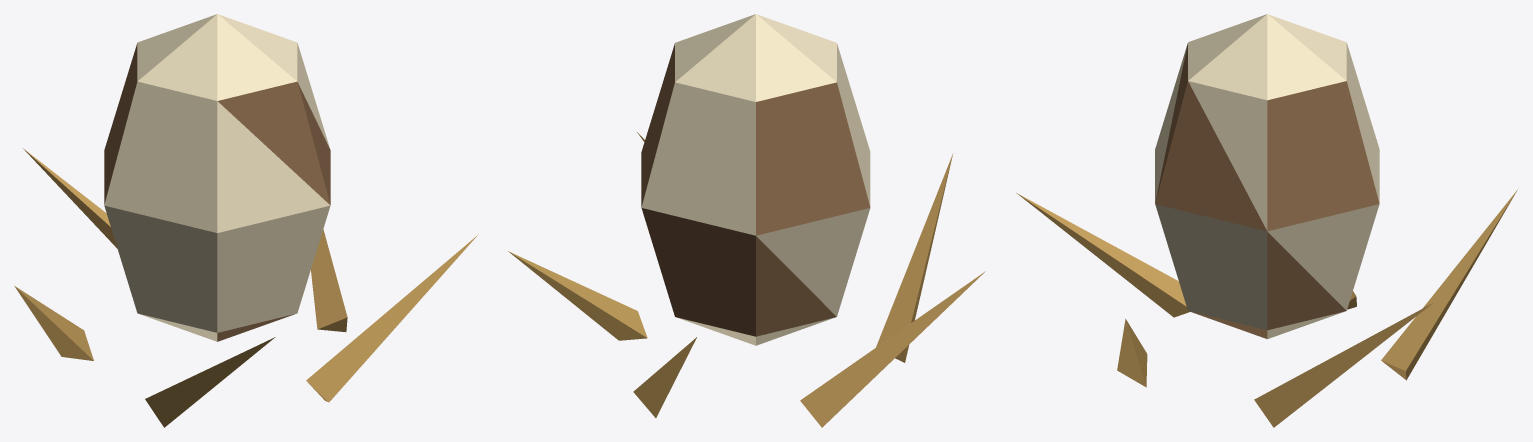
Rendered from food_egg_a.obj.
3 views of the same model, side by side, from view 1: azimuth 30°, elevation 25°; view 2: azimuth 150°, elevation 25°; view 3: azimuth 270°, elevation 25° (orthographic). The views are drawn at different scales.
Visible parts, largest first — view 1: food_egg_a; view 2: food_egg_a; view 3: food_egg_a.
Part boxes in pixels (x1,y1,x2,y2): food_egg_a: [14, 14, 478, 427]; food_egg_a: [508, 14, 985, 427]; food_egg_a: [1016, 14, 1517, 427].
Bounding box in the file's own units: 1.86 × 1.56 × 2.02.
